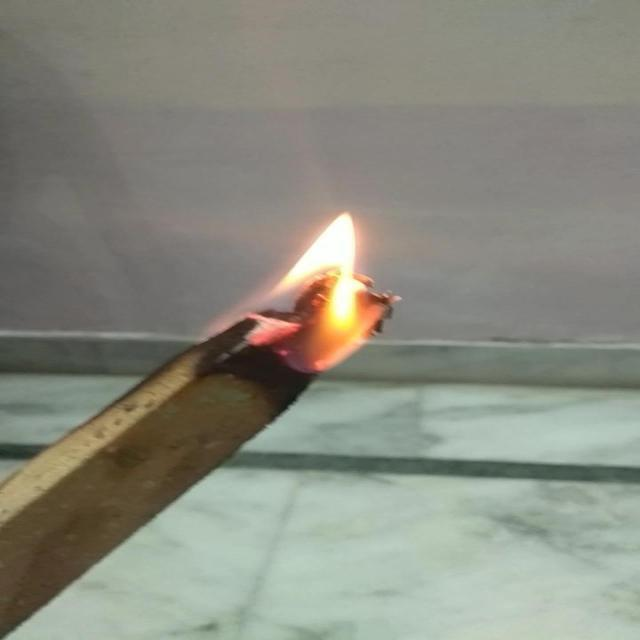smoke: (209, 200, 429, 376)
